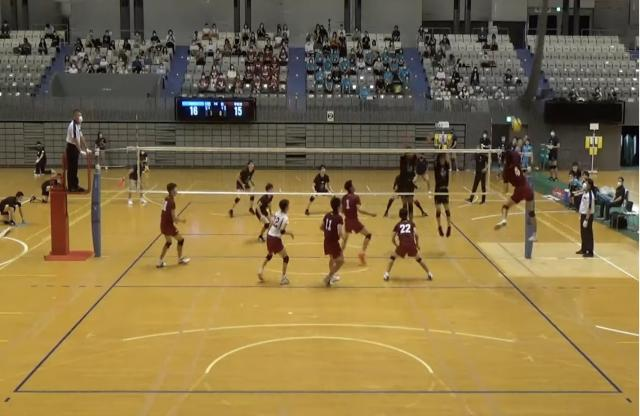spike: (493, 116, 543, 250)
